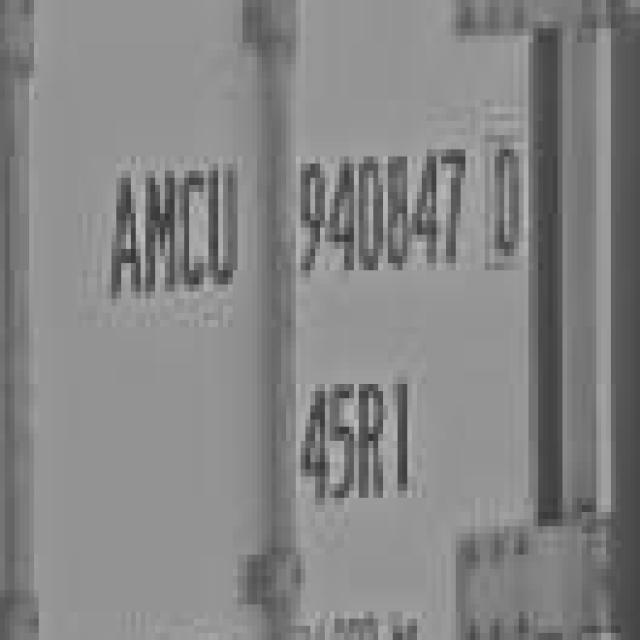dv: (480, 140, 528, 268)
owner: (100, 144, 247, 306)
serial: (287, 138, 469, 282)
size: (287, 367, 418, 508)
